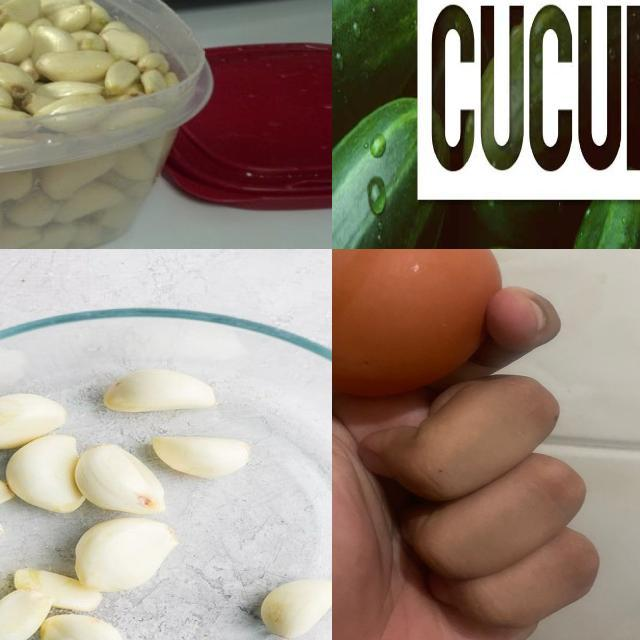cucumber: (514, 199, 640, 250)
egg: (333, 250, 506, 401)
garlic: (1, 374, 251, 640), (1, 1, 152, 105), (258, 576, 333, 640)
